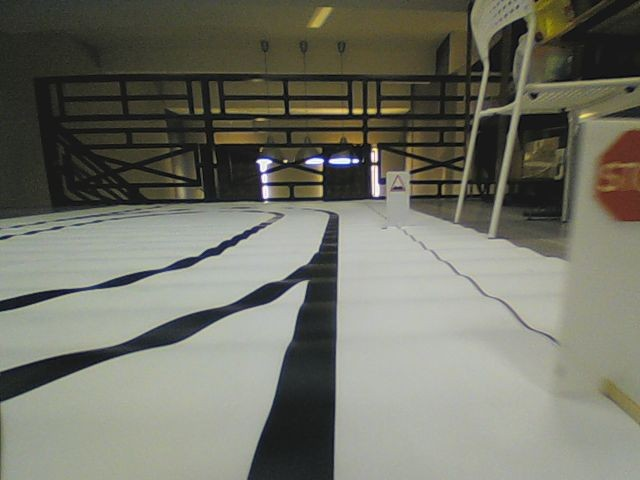Nerov: (389, 173, 407, 193)
Stop: (594, 126, 640, 225)
